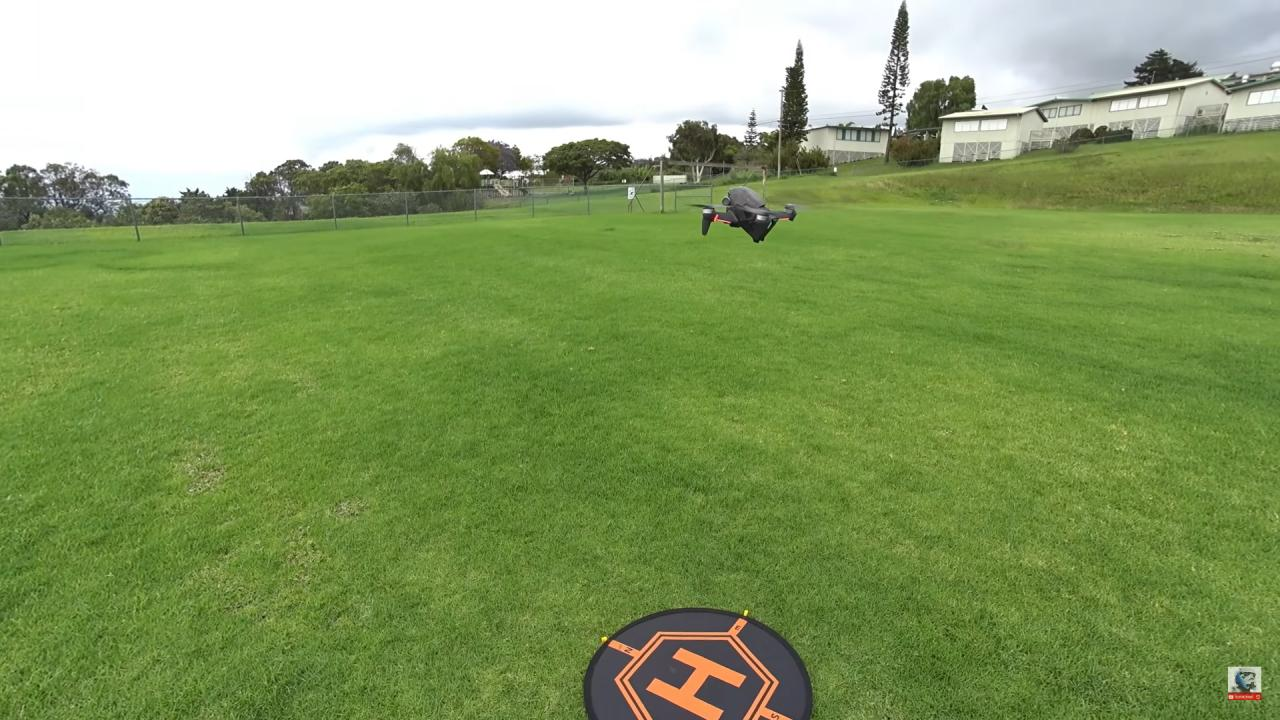Drone: (679, 178, 810, 252)
